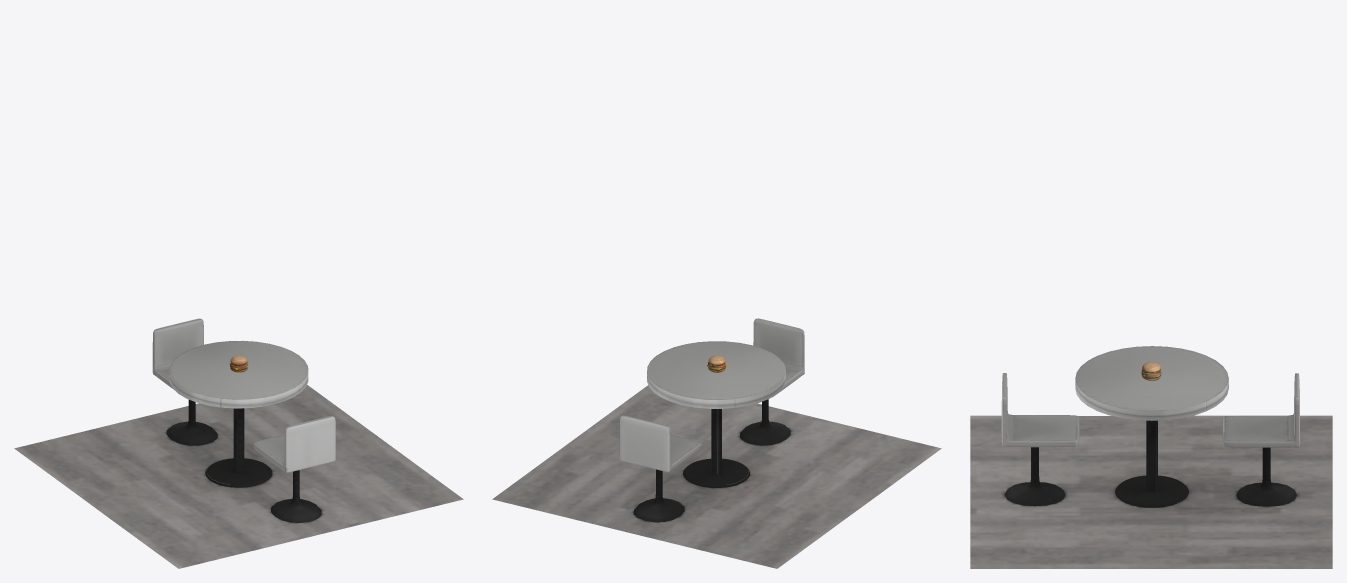
The model's file is small_cafe_cheese_burger.glb.
The picture shows the model from 3 angles, left to right: view 1: azimuth 30°, elevation 25°; view 2: azimuth 150°, elevation 25°; view 3: azimuth 270°, elevation 25°; orthographic projection. The views are drawn at different scales.
Visible parts, largest first — view 1: SmallCafe; view 2: SmallCafe; view 3: SmallCafe.
Part boxes in pixels (<box>): SmallCafe: <box>14,318,463,568</box>; SmallCafe: <box>492,318,941,568</box>; SmallCafe: <box>970,346,1332,568</box>.
Size of the model in its own units: 2.5 by 3.07 by 2.5.
Materials: 3 (3 with a texture image).
